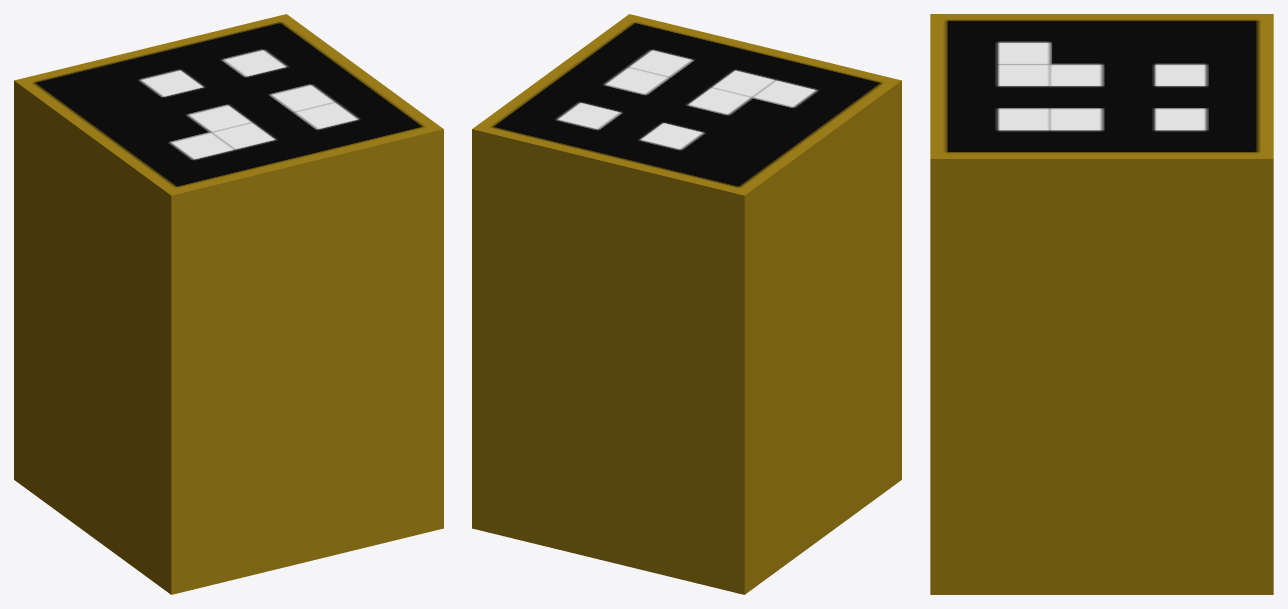
The picture shows the model from 3 angles, left to right: view 1: azimuth 30°, elevation 25°; view 2: azimuth 150°, elevation 25°; view 3: azimuth 270°, elevation 25°; orthographic projection. The views are drawn at different scales.
Visible parts, largest first — view 1: Cube; view 2: Cube; view 3: Cube.
Part boxes in pixels (<box>): Cube: <box>14,14,443,594</box>; Cube: <box>472,14,901,594</box>; Cube: <box>930,14,1273,594</box>.
Size of the model in its own units: 0.05 by 0.05 by 0.07.
1 material, 1 textured.
